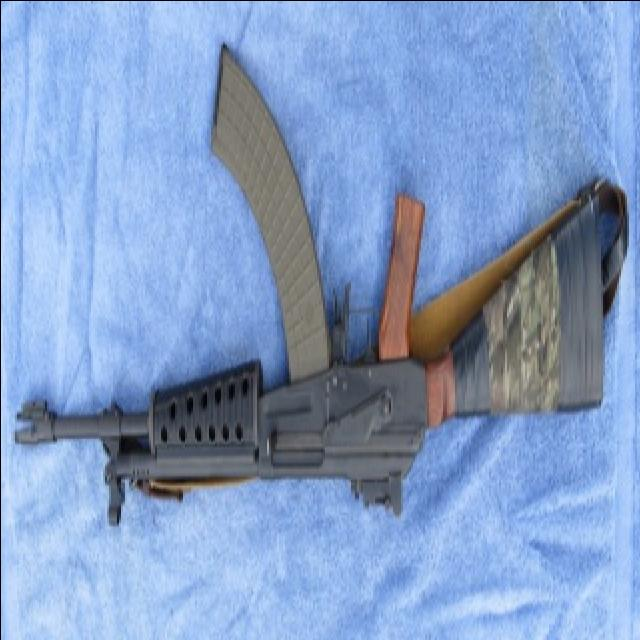rifle: (15, 48, 625, 529)
